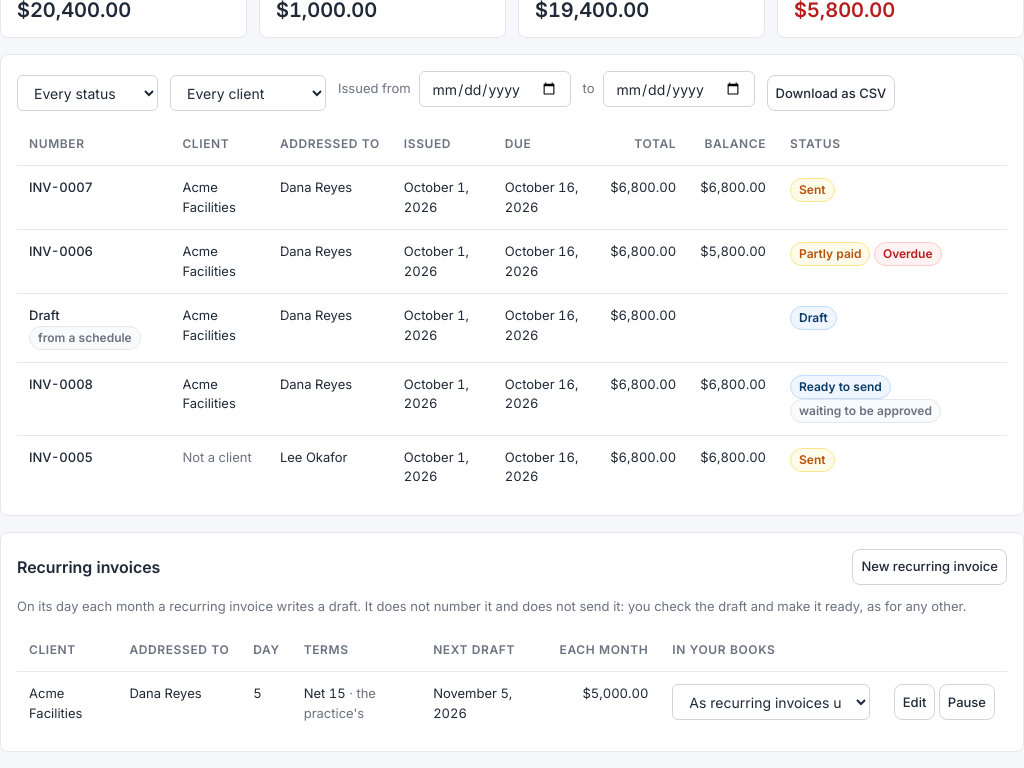
Test: editing a recurring invoice › opens over a grayed page, and Escape closes it with nothing saved (U1)
(page scrolled)
Click the button with aria-label "Edit the recurring invoice for Acme Facilities" at (915, 702), box [894,684,935,720]
(page scrolled)
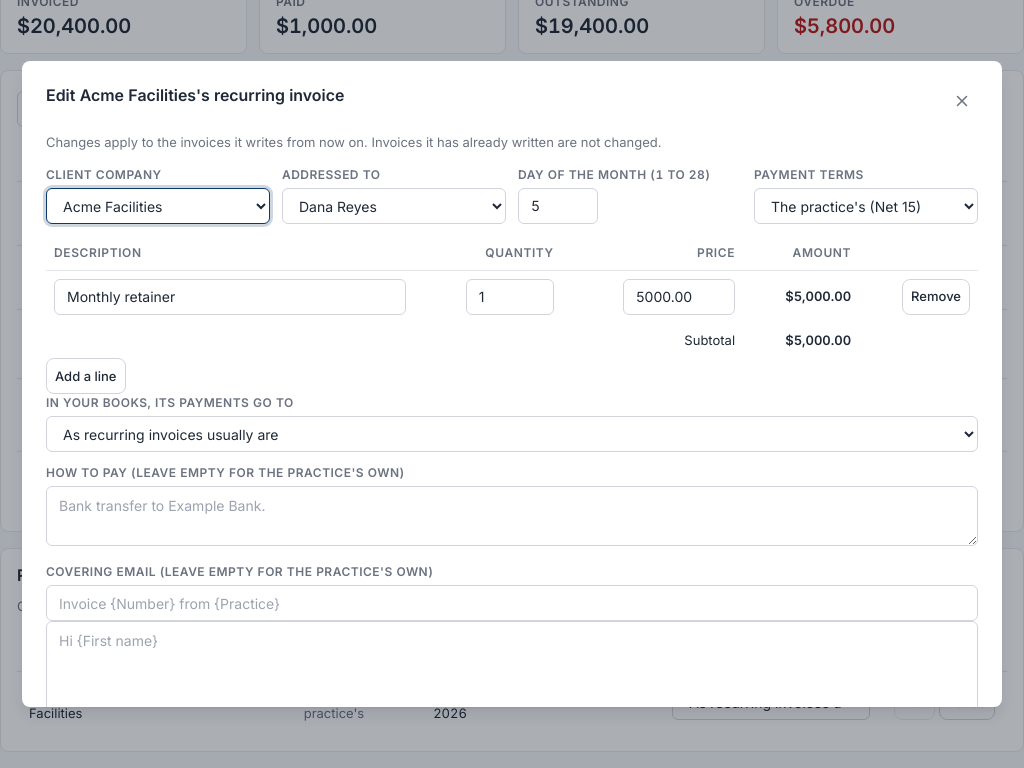
Expected: the element with class "sheet-backdrop" is shown
Replace the text in the number field named "Day of the month" with "9" at (558, 206), box [518,188,598,224]
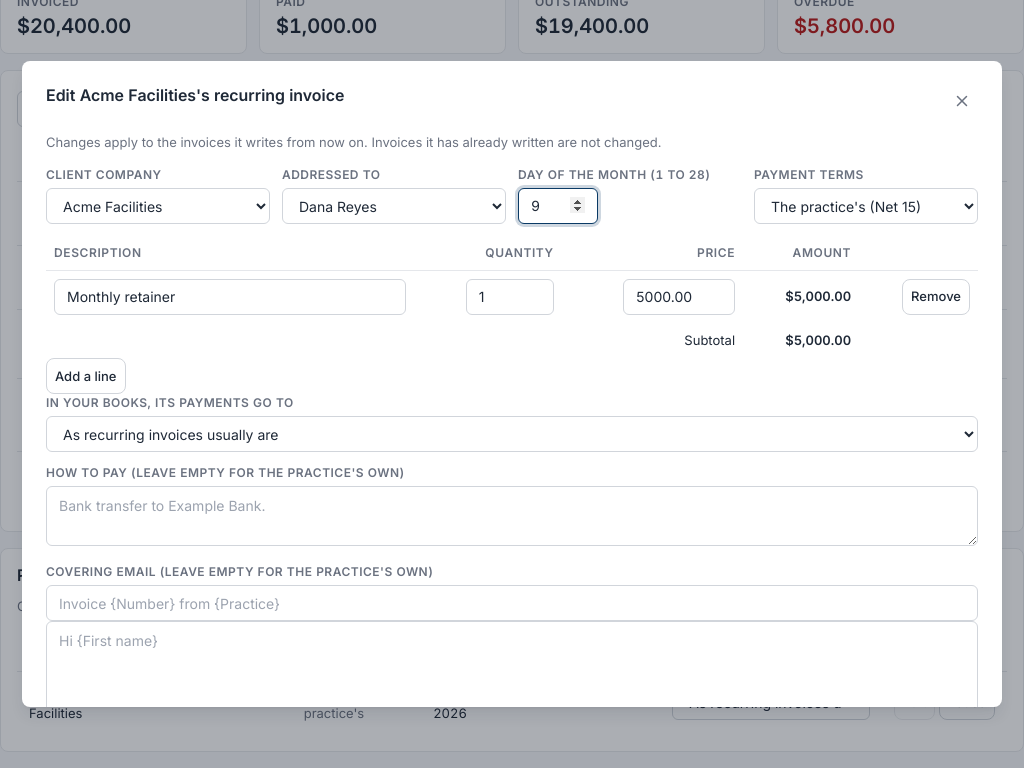
Press Escape
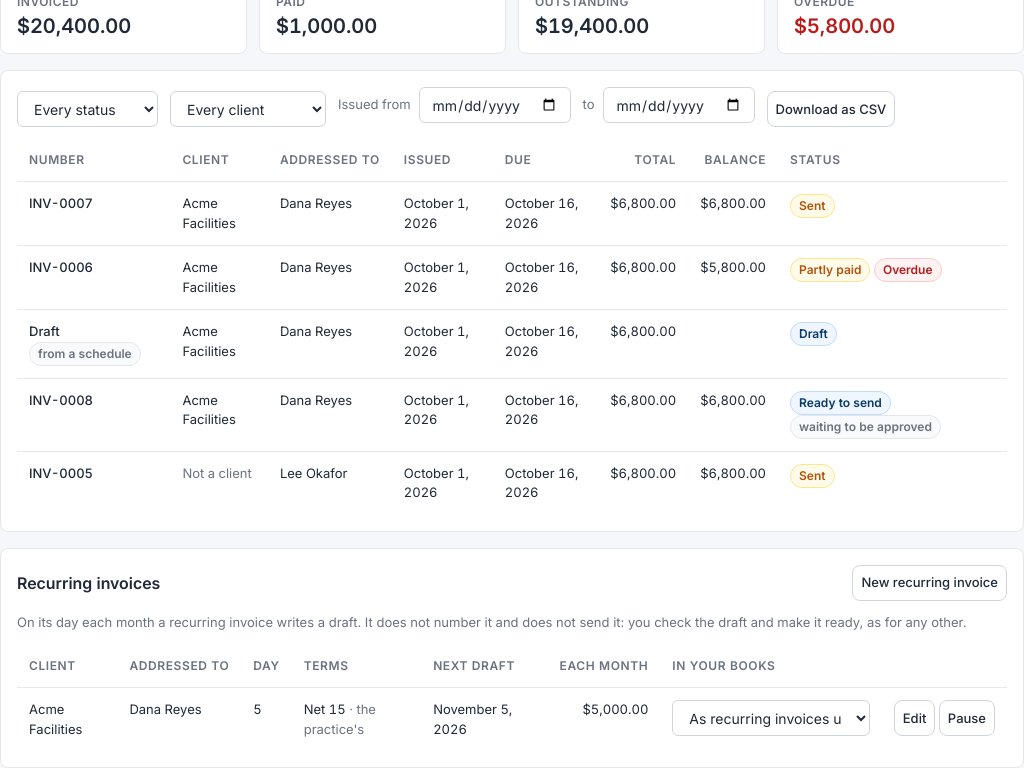
Expected: the element with class "sheet-backdrop" is gone
# Opened again, it holds what is saved, not what was typed.
Click the button with aria-label "Edit the recurring invoice for Acme Facilities" at (915, 718), box [894,700,935,736]
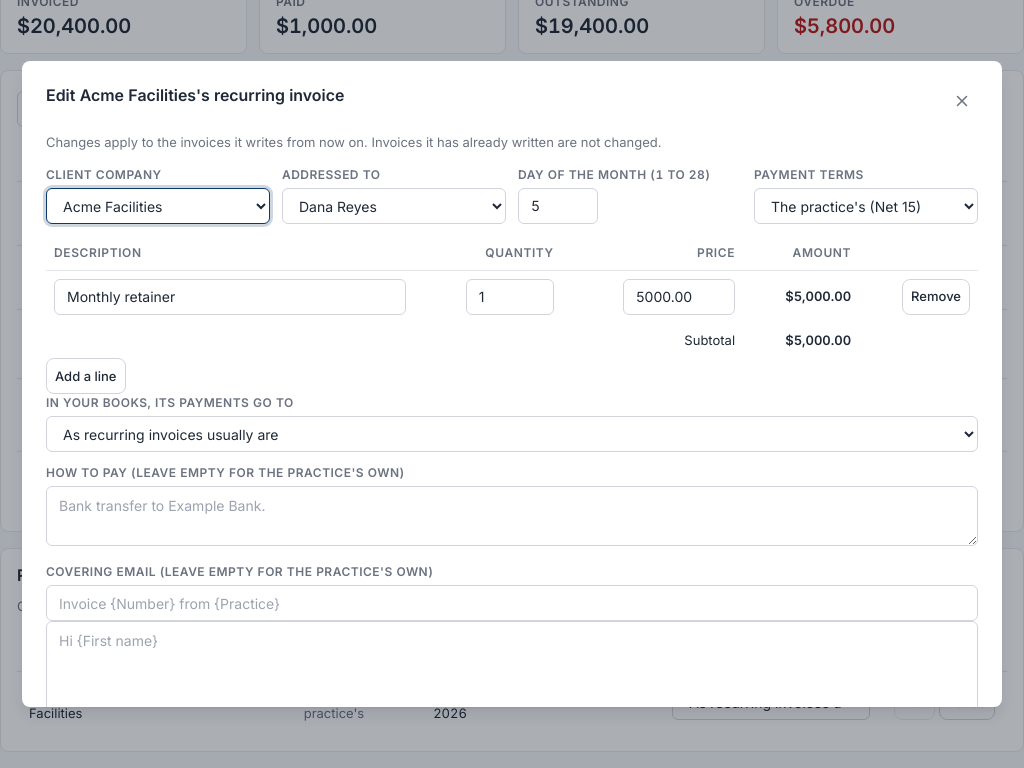
Expected: the number field named "Day of the month" holds "5", [518,188,598,224]
